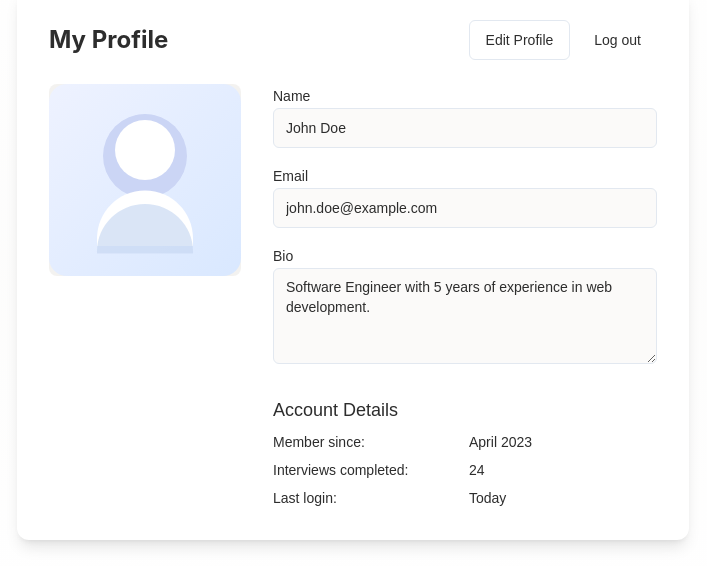
Test: Profile Page Integration Tests › Profile Editing Workflow › should cancel editing and exit edit mode
Note: Enter edit mode and make changes
Click the button "Edit Profile" at (519, 40), box top-left (469, 20), bottom-right (570, 60)
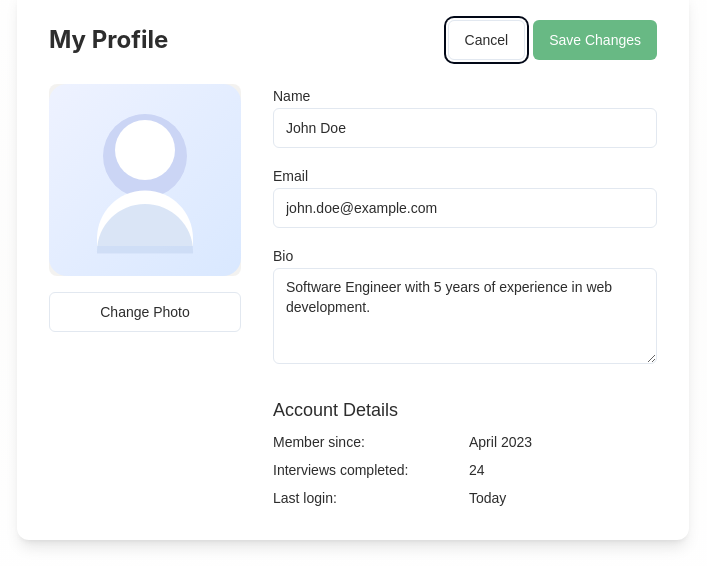
Replace the text in the field labelled "Name" with "Changed Name" at (465, 128), box top-left (273, 108), bottom-right (657, 148)
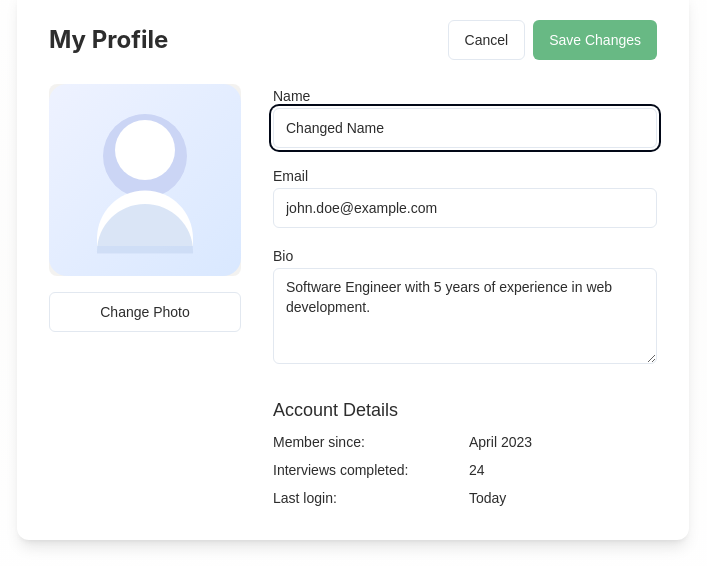
Click the button "Cancel" at (486, 40), box top-left (448, 20), bottom-right (525, 60)
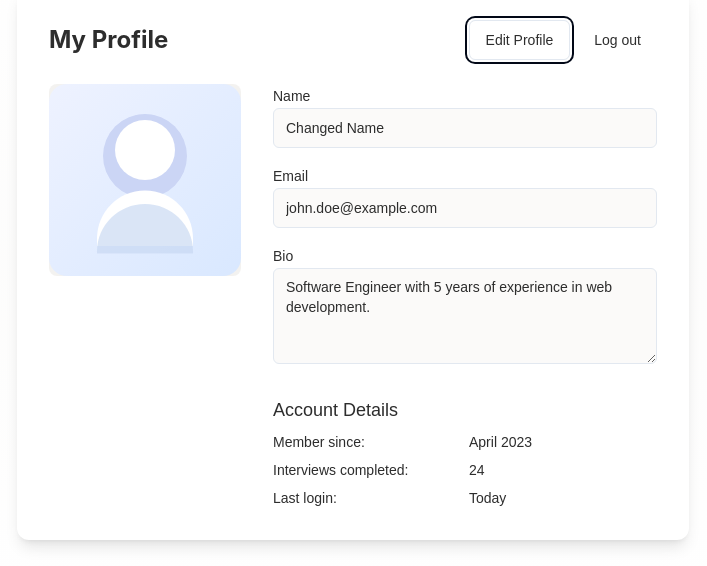
Expected: the button "Edit Profile" is shown, top-left (469, 20), bottom-right (570, 60)
